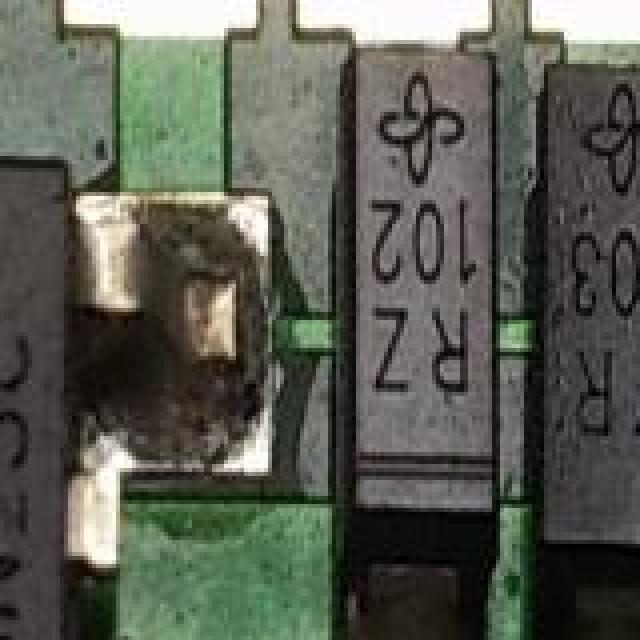IC: (0, 144, 252, 640)
diode: (332, 8, 506, 614), (536, 52, 640, 596)
